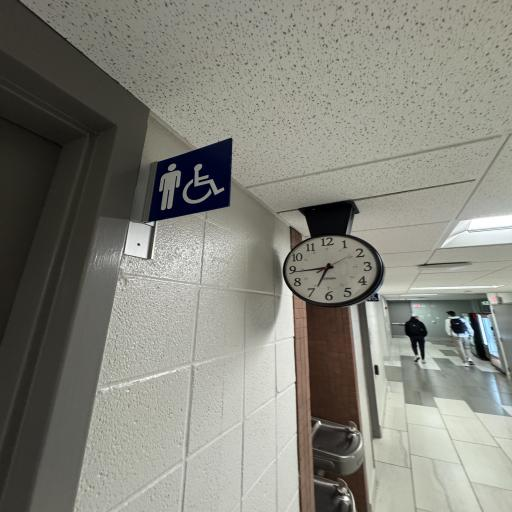clock: (279, 199, 391, 306)
men bathroom sign: (152, 150, 234, 218)
water fountain: (304, 411, 366, 512)
